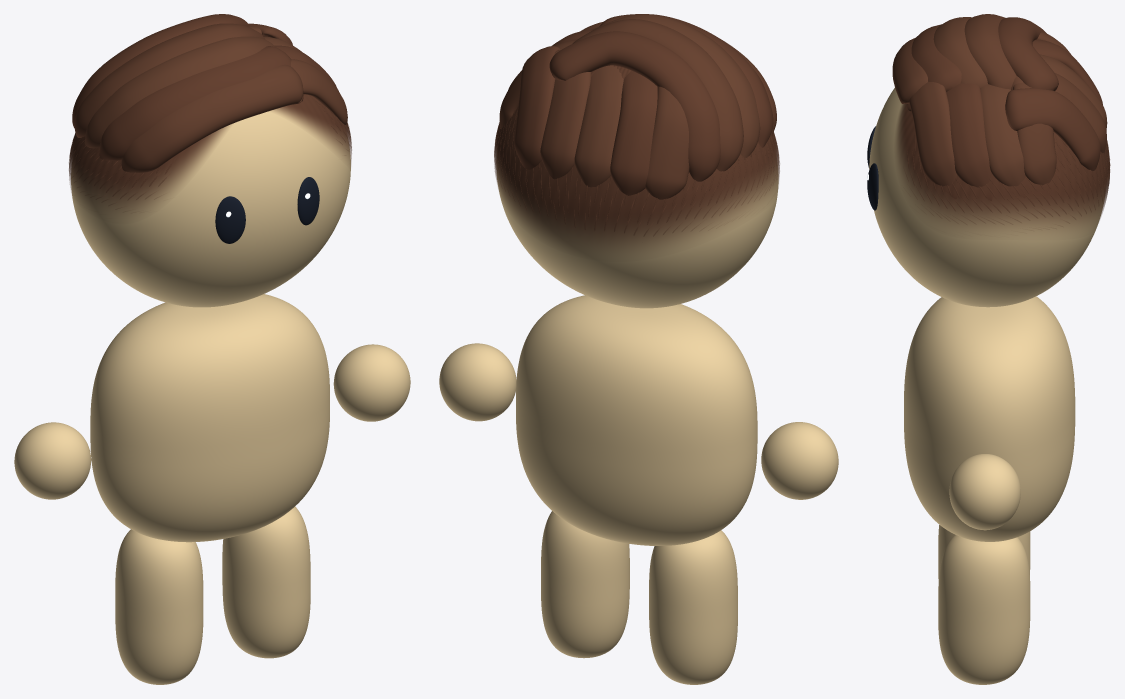
Rendered from Taper-skin1.glb.
3 renders of one model, left to right at view 1: azimuth 30°, elevation 25°; view 2: azimuth 150°, elevation 25°; view 3: azimuth 270°, elevation 25°, orthographic. The views are drawn at different scales.
Visible parts, largest first — view 1: Skin / compact torso, Skin / soft oval head, Skin / leg -1, Skin / leg 1, Hair / Taper short sides, Hair / Taper top 0, Hair / Taper top 1, Skin / hand -1, Skin / hand 1, Hair / Taper top 2, Hair / Taper top 3, Hair / Taper top 4 (+4 smaller); view 2: Skin / compact torso, Skin / soft oval head, Hair / Taper short sides, Skin / leg -1, Skin / leg 1, Hair / Taper top 4, Skin / hand 1, Skin / hand -1, Hair / Taper top 3, Hair / Taper crown 1, Hair / Taper crown 2, Hair / Taper crown 0 (+6 smaller); view 3: Skin / compact torso, Skin / soft oval head, Hair / Taper short sides, Skin / leg 1, Skin / hand 1, Hair / Taper crown 4, Hair / Taper short sweep 0, Hair / Taper short sweep 1, Hair / Taper short sweep 2, Hair / Taper top 4, Hair / Taper top 3, Hair / Taper short sweep 3 (+9 smaller).
Boxes of the visible parts, x1,y1,x2,y2 form: Skin / compact torso: (90,294,329,542); Skin / soft oval head: (71,107,350,307); Skin / leg -1: (115,529,203,684); Skin / leg 1: (222,506,310,658); Hair / Taper short sides: (69,94,351,216); Hair / Taper top 0: (121,64,303,172); Hair / Taper top 1: (99,46,291,160); Skin / hand -1: (14,422,91,499); Skin / hand 1: (333,344,410,421); Hair / Taper top 2: (84,36,274,148); Hair / Taper top 3: (74,23,265,137); Hair / Taper top 4: (72,14,249,127); Skin / compact torso: (516,295,757,545); Skin / soft oval head: (496,161,778,308); Hair / Taper short sides: (494,65,779,254); Skin / leg -1: (649,530,737,684); Skin / leg 1: (541,511,629,658); Hair / Taper top 4: (549,31,720,181); Skin / hand 1: (439,343,516,421); Skin / hand -1: (761,422,838,499); Hair / Taper top 3: (572,19,743,171); Hair / Taper crown 1: (610,71,657,195); Hair / Taper crown 2: (574,65,623,187); Hair / Taper crown 0: (645,86,689,199); Skin / compact torso: (904,296,1075,541); Skin / soft oval head: (869,88,1104,307); Hair / Taper short sides: (896,104,1109,232); Skin / leg 1: (938,535,1030,684); Skin / hand 1: (949,454,1020,530); Hair / Taper crown 4: (1005,88,1100,170); Hair / Taper short sweep 0: (909,82,957,186); Hair / Taper short sweep 1: (946,83,991,187); Hair / Taper short sweep 2: (980,84,1025,186); Hair / Taper top 4: (998,17,1058,90); Hair / Taper top 3: (964,14,1016,89); Hair / Taper short sweep 3: (1013,82,1056,185).
Size of the model in its own units: 1.49 by 2.34 by 0.8289.
